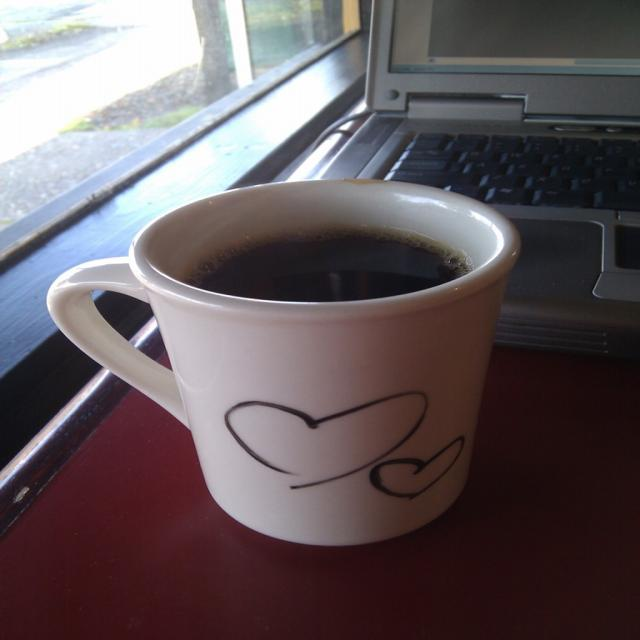Coffee: (187, 223, 479, 302)
Tea: (187, 228, 469, 300)
